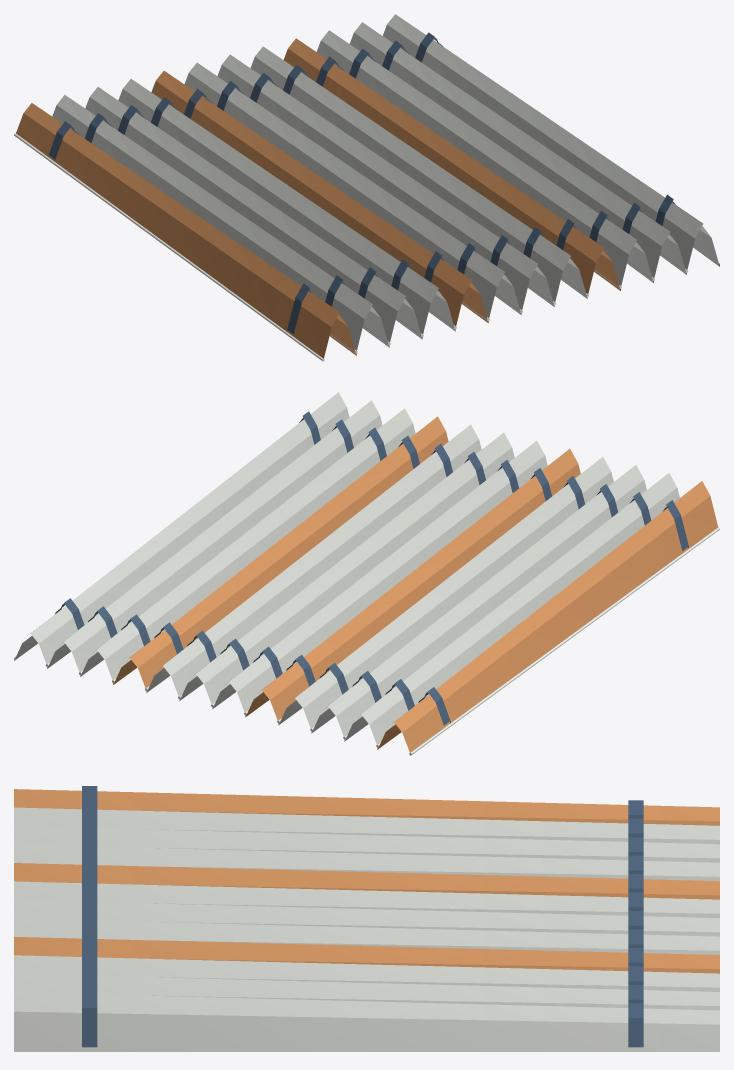
Rendered from spacecraft-parachute-packing-hall-spacecraft-parachute-5b7ecef3__32088.glb.
3 renders of one model, top to bottom at view 1: azimuth 30°, elevation 25°; view 2: azimuth 150°, elevation 25°; view 3: azimuth 270°, elevation 25°, orthographic. The views are drawn at different scales.
Parts seen in each view (by area): view 1: spacecraft-parachute-packing-hall-main-canopy-folded-fan; view 2: spacecraft-parachute-packing-hall-main-canopy-folded-fan; view 3: spacecraft-parachute-packing-hall-main-canopy-folded-fan.
Boxes of the visible parts, x1,y1,x2,y2 form: spacecraft-parachute-packing-hall-main-canopy-folded-fan: (14, 14, 719, 361); spacecraft-parachute-packing-hall-main-canopy-folded-fan: (14, 392, 719, 755); spacecraft-parachute-packing-hall-main-canopy-folded-fan: (14, 786, 719, 1051).
Bounding box in the file's own units: 1.25 × 0.1508 × 1.68.
